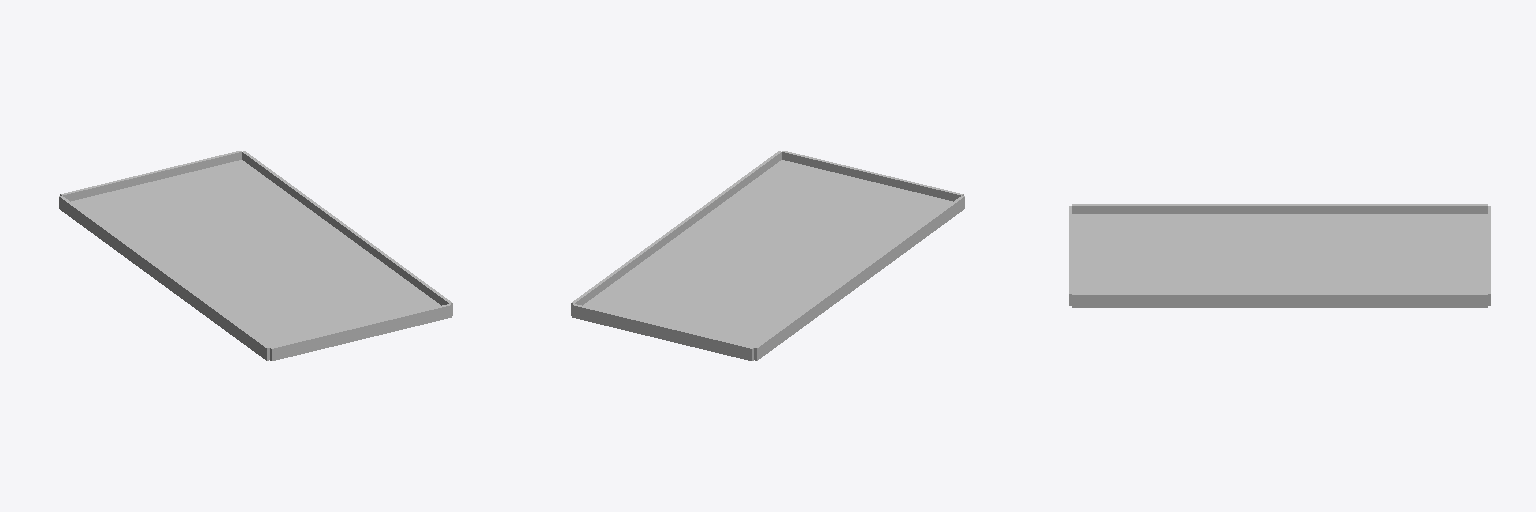
File: pooltbl.obj
The picture shows the model from 3 angles: view 1: azimuth 30°, elevation 25°; view 2: azimuth 150°, elevation 25°; view 3: azimuth 270°, elevation 25°; orthographic projection.
Visible parts, largest first — view 1: Cube; view 2: Cube; view 3: Cube.
Boxes of the visible parts, x1,y1,x2,y2 form: Cube: [59, 151, 452, 360]; Cube: [571, 151, 964, 360]; Cube: [1069, 204, 1490, 307].
Size of the model in its own units: 1.03 by 0.0663 by 2.02.